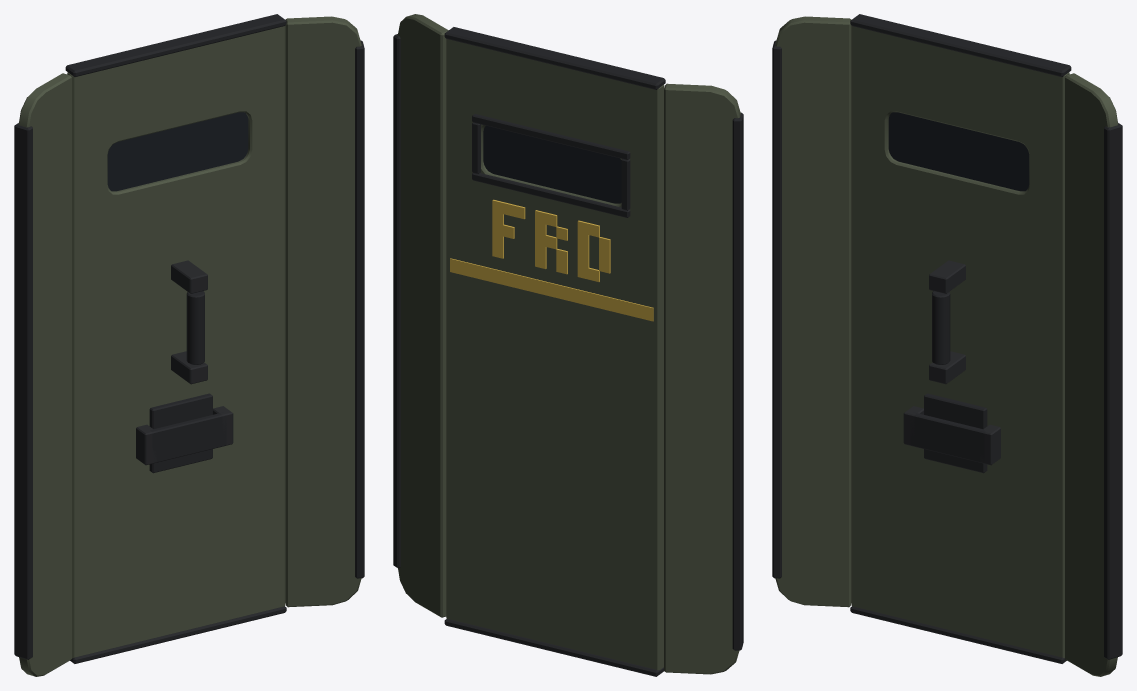
Rendered from char_bulwark_frd_shield.glb.
3 renders of one model, left to right at view 1: azimuth 30°, elevation 25°; view 2: azimuth 150°, elevation 25°; view 3: azimuth 330°, elevation 25°, orthographic.
Parts seen in each view (by area): view 1: Visual; view 2: Visual; view 3: Visual.
Boxes of the visible parts, left/top/right/bottom form: Visual: left=14, top=14, right=364, bottom=676; Visual: left=393, top=14, right=743, bottom=676; Visual: left=772, top=14, right=1122, bottom=676.
Size of what is drawn, in the model's own units: 0.6852 by 1.12 by 0.1015.
